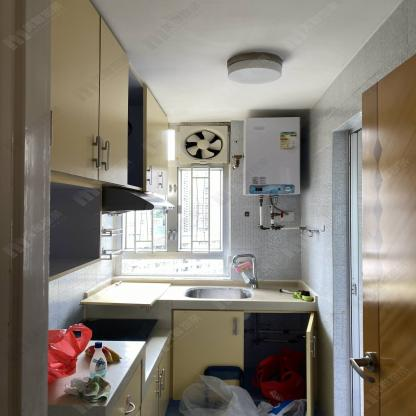Cupboard: (47, 0, 129, 183), (171, 311, 245, 401)
Exhaust Fan: (180, 126, 230, 164)
Exhaust Hood: (106, 186, 177, 215)
Faucet: (228, 252, 264, 290)
Sink: (188, 288, 251, 299)
